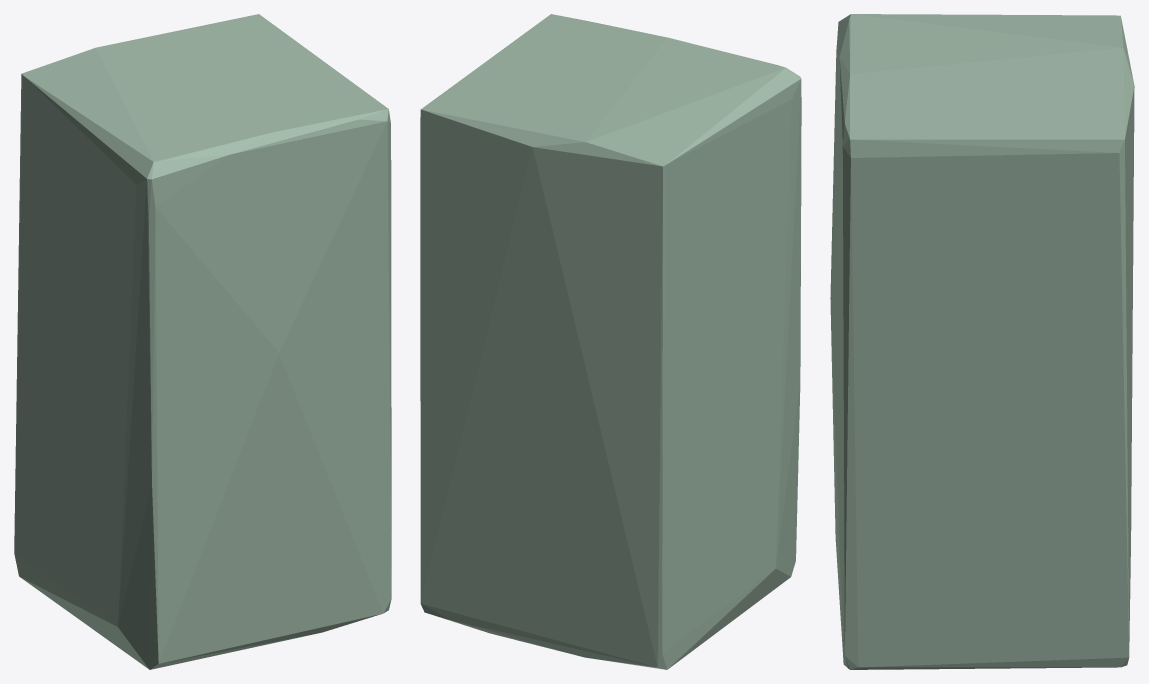
File: box_long_a01.glb
3 views of the same model, side by side, from view 1: azimuth 30°, elevation 25°; view 2: azimuth 150°, elevation 25°; view 3: azimuth 270°, elevation 25° (orthographic). The views are drawn at different scales.
Visible parts, largest first — view 1: geometry_0; view 2: geometry_0; view 3: geometry_0.
Part boxes in pixels (x1=…): geometry_0: x1=14, y1=14, x2=391, y2=669; geometry_0: x1=420, y1=14, x2=801, y2=669; geometry_0: x1=830, y1=14, x2=1134, y2=669.
Size of the model in its own units: 0.2443 by 0.4791 by 0.2428.
